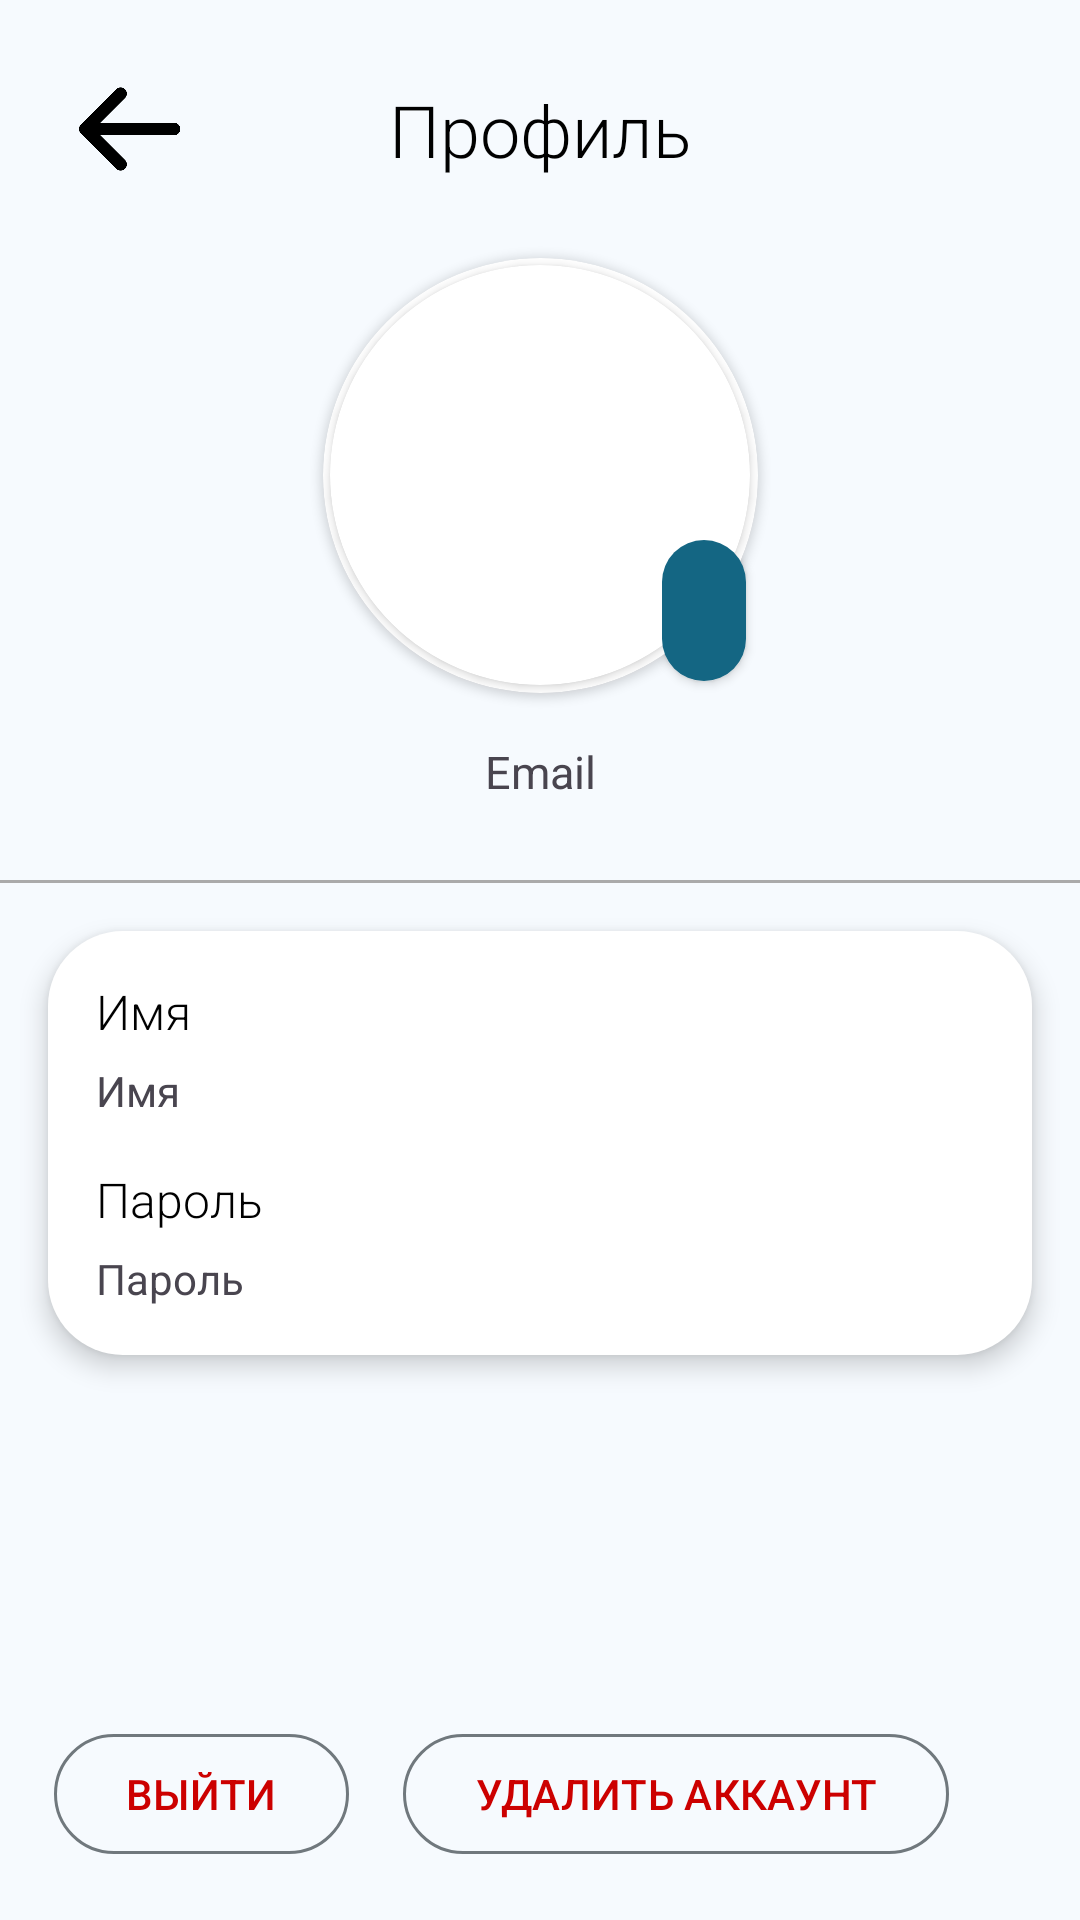

Named icons in this screenshot (1080*1920) and their bounding boxes, (x1, y1, x2, y2):
back: (79, 87, 180, 171)
